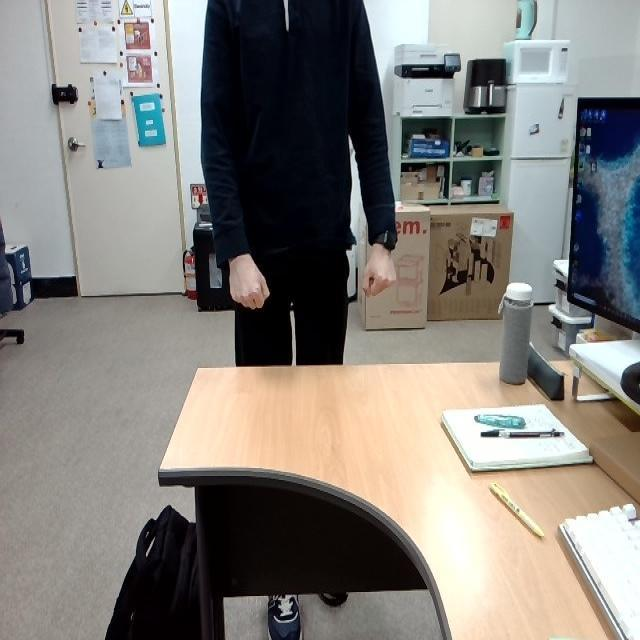bare_hand: (222, 250, 271, 311), (359, 236, 401, 299)
